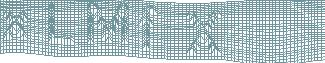L: (45, 1, 77, 47)
M: (84, 1, 130, 47)
X: (184, 9, 226, 58)
f: (136, 1, 158, 51)
x: (2, 10, 29, 42)
